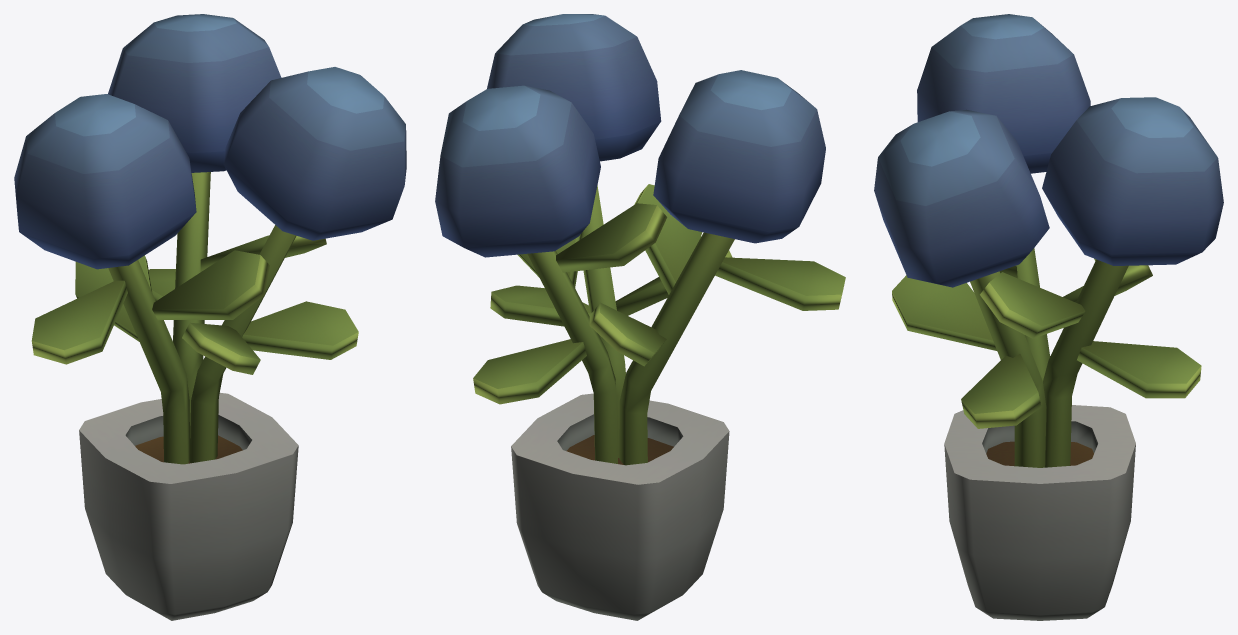
File: flower_bunch_2_blue_pot.fbx
The picture shows the model from 3 angles, left to right: view 1: azimuth 30°, elevation 25°; view 2: azimuth 150°, elevation 25°; view 3: azimuth 270°, elevation 25°; orthographic projection.
Parts seen in each view (by area): view 1: flower_bunch_2_blue_pot; view 2: flower_bunch_2_blue_pot; view 3: flower_bunch_2_blue_pot.
Boxes of the visible parts, box(x1,y1,x2,y2) form: flower_bunch_2_blue_pot: box(14, 14, 406, 620); flower_bunch_2_blue_pot: box(435, 14, 845, 620); flower_bunch_2_blue_pot: box(874, 14, 1223, 620).
Size of the model in its own units: 89.22 by 127 by 77.1.
